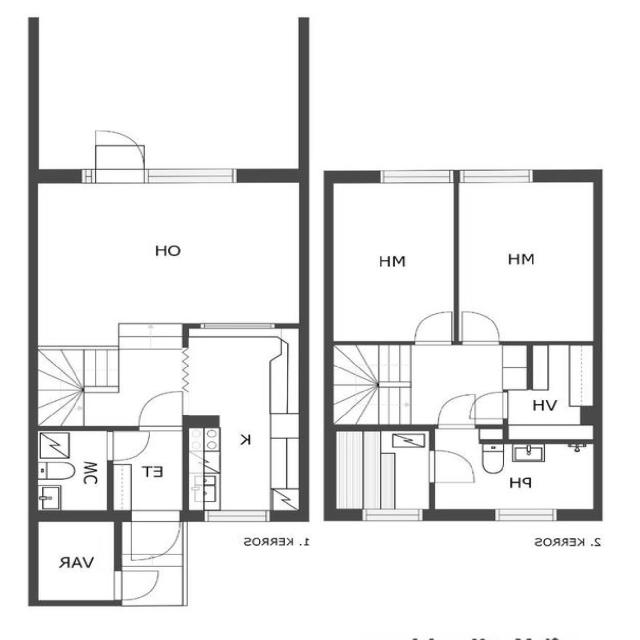door: (106, 427, 186, 512), (79, 126, 154, 187), (122, 507, 186, 562), (129, 385, 190, 431), (429, 388, 484, 432), (424, 446, 480, 489), (109, 564, 165, 604), (455, 306, 506, 348), (462, 388, 516, 426), (410, 306, 457, 348), (101, 428, 153, 464)
window: (144, 160, 247, 189), (186, 314, 286, 338), (451, 163, 541, 188), (373, 165, 460, 186), (352, 504, 430, 525), (198, 508, 280, 525), (488, 506, 564, 524)
zone: (25, 178, 304, 332), (455, 178, 597, 344), (190, 327, 307, 517), (328, 178, 458, 344), (430, 439, 601, 515), (329, 426, 433, 516), (511, 342, 596, 441), (36, 516, 116, 606), (108, 429, 186, 516), (34, 428, 109, 516)
